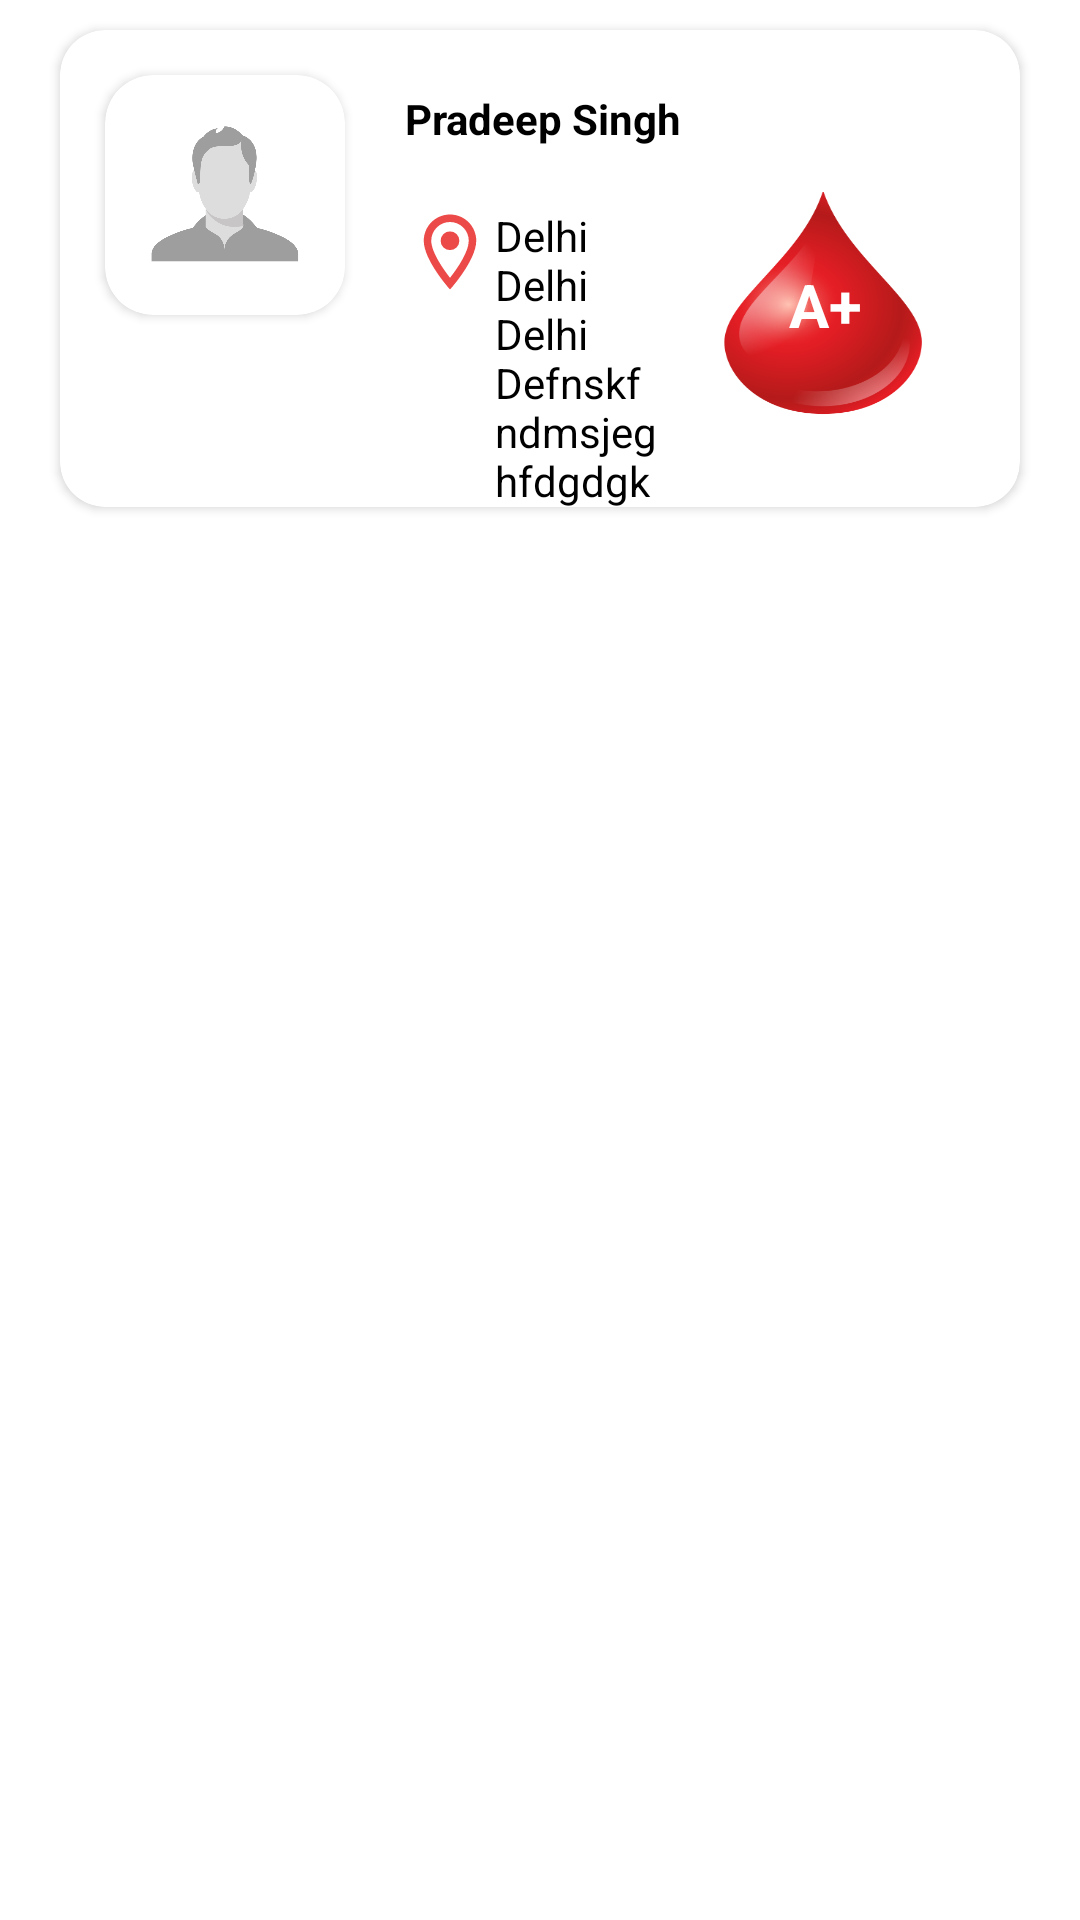

Named icons in this screenshot (1080×1920) and their bounding boxes, (x1, y1, x2, y2):
location: (423, 214, 477, 289)
male: (105, 126, 298, 308)
